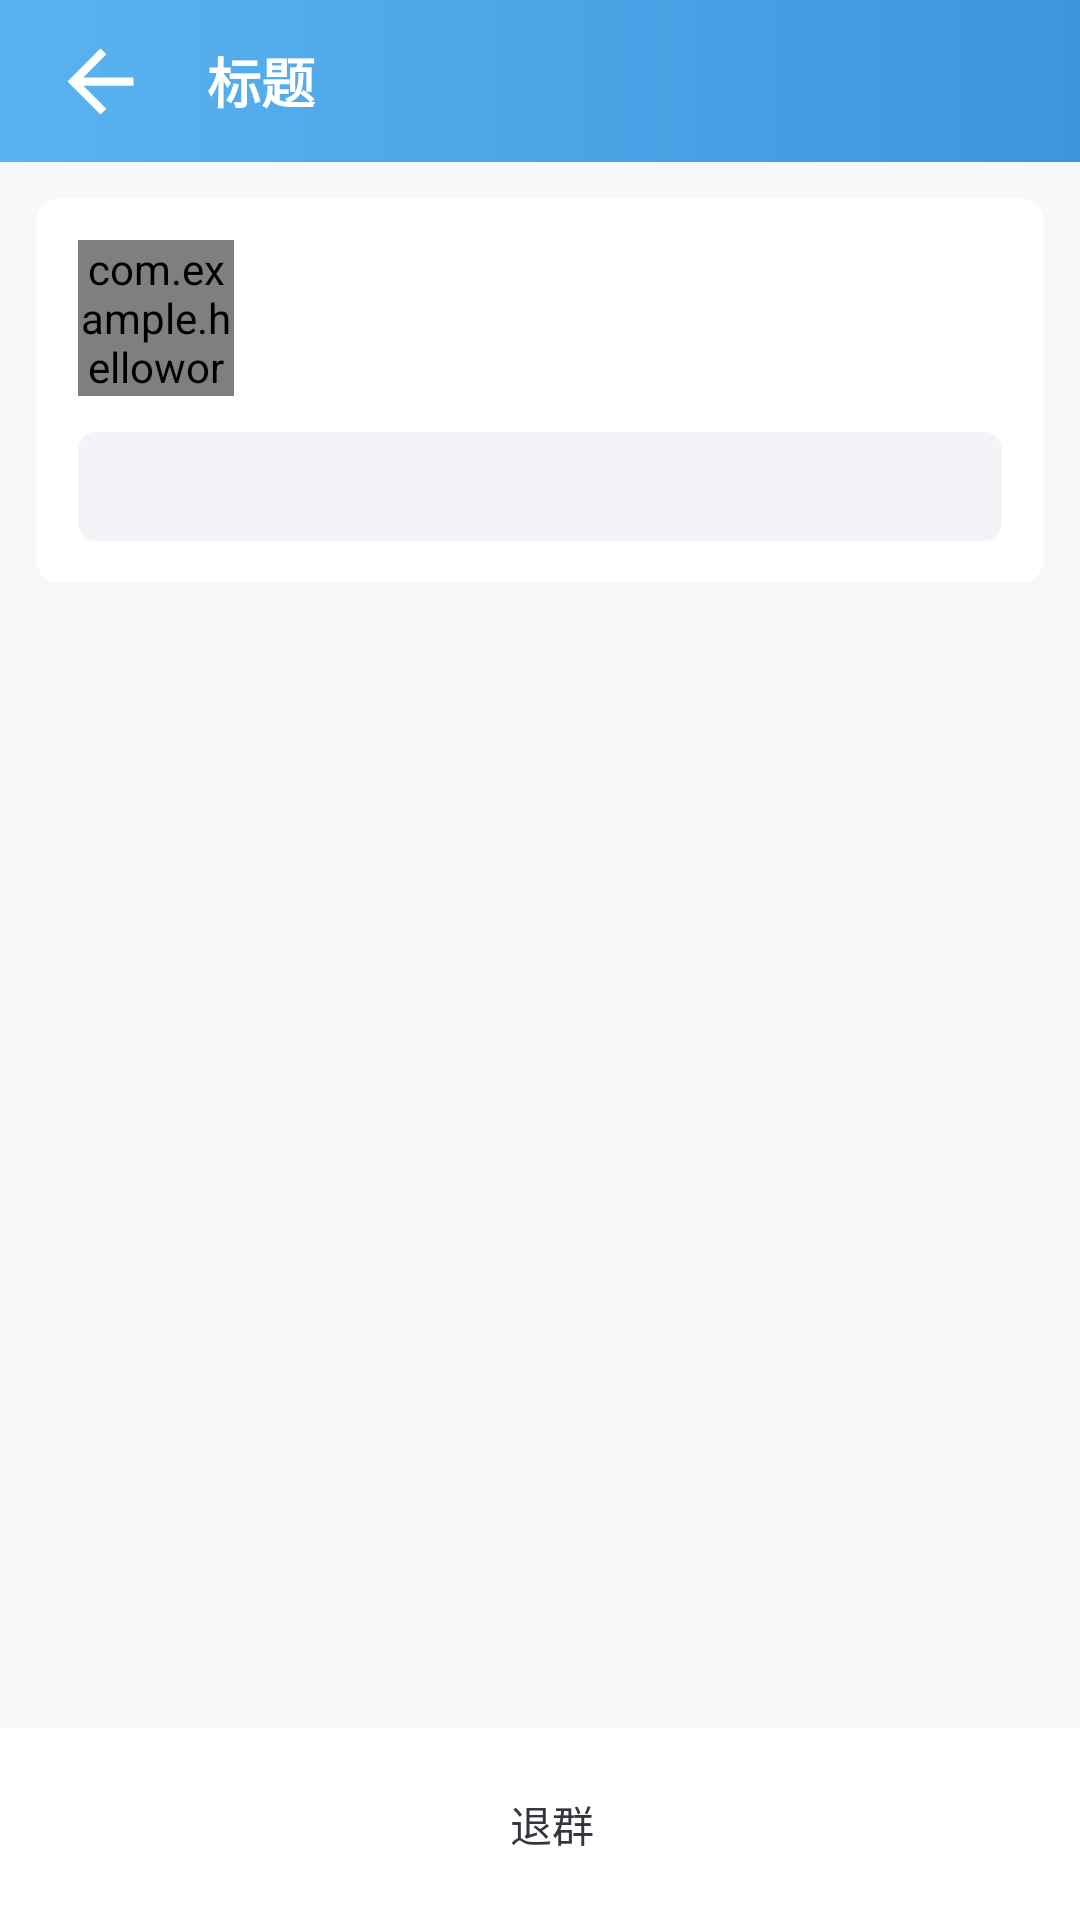

Named icons in this screenshot (1080px×1920px) and their centers, [x,y]:
返回: [100,81]
